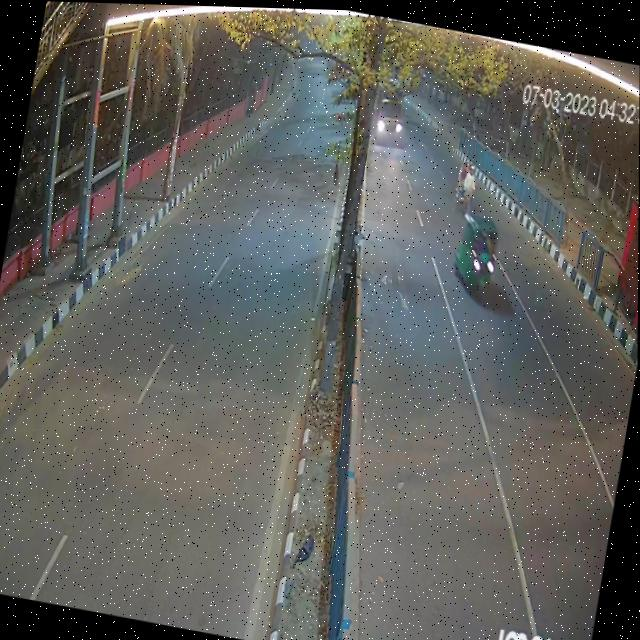cng: (453, 205, 508, 300)
rikshaw: (450, 150, 480, 215)
